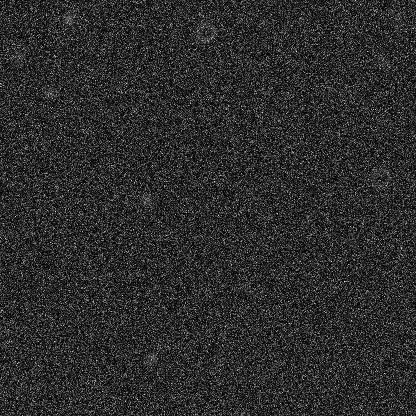Ring: (193, 20, 217, 44), (367, 165, 391, 189)
Spot: (42, 84, 58, 100), (143, 350, 159, 366), (61, 10, 77, 26), (9, 48, 25, 64), (138, 191, 154, 207), (389, 15, 405, 31), (373, 54, 389, 70), (168, 7, 184, 23)
